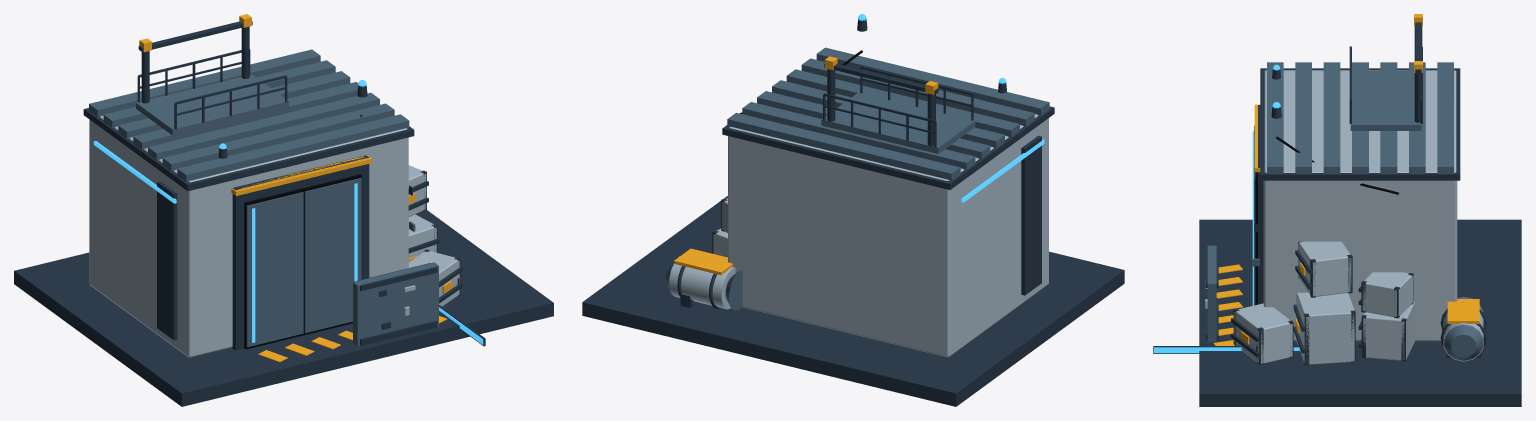
The model's file is equipment_depot.glb.
The picture shows the model from 3 angles, left to right: view 1: azimuth 30°, elevation 25°; view 2: azimuth 150°, elevation 25°; view 3: azimuth 270°, elevation 25°; orthographic projection. The views are drawn at different scales.
Parts seen in each view (by area): view 1: DepotModule, EquipmentDepot, Door, Gantry, ArmourWall, Crate_3, Railing_2, Crate, Railing, Crate_4, Chevrons; view 2: DepotModule, EquipmentDepot, Gantry, Tank, Railing, Railing_2; view 3: DepotModule, EquipmentDepot, Gantry, Crate, Crate_3, Crate_4, Crate_2, Tank, Crate_5, Door, ArmourWall, Chevrons (+1 smaller).
Boxes of the visible parts, x1,y1,x2,y2 form: DepotModule: (83,49,414,357); EquipmentDepot: (14,115,553,406); Door: (231,155,371,350); Gantry: (136,14,288,135); ArmourWall: (353,262,438,346); Crate_3: (408,249,462,306); Railing_2: (174,75,287,129); Crate: (408,214,439,261); Railing: (137,49,250,102); Crate_4: (408,165,428,216); Chevrons: (258,316,447,362); DepotModule: (722,47,1054,357); EquipmentDepot: (582,50,1124,406); Gantry: (821,56,975,153); Tank: (666,248,742,310); Railing: (823,93,936,147); Railing_2: (860,66,973,120); DepotModule: (1260,62,1460,341); EquipmentDepot: (1199,106,1521,406); Gantry: (1350,14,1422,130); Crate: (1293,292,1355,365); Crate_3: (1231,303,1293,364); Crate_4: (1295,241,1352,297); Crate_2: (1358,301,1415,361); Tank: (1440,296,1486,361); Crate_5: (1358,272,1413,318); Door: (1252,104,1263,305); ArmourWall: (1205,245,1218,342); Chevrons: (1213,264,1242,345).
Size of the model in its own units: 6.8 by 4.6 by 6.07.
